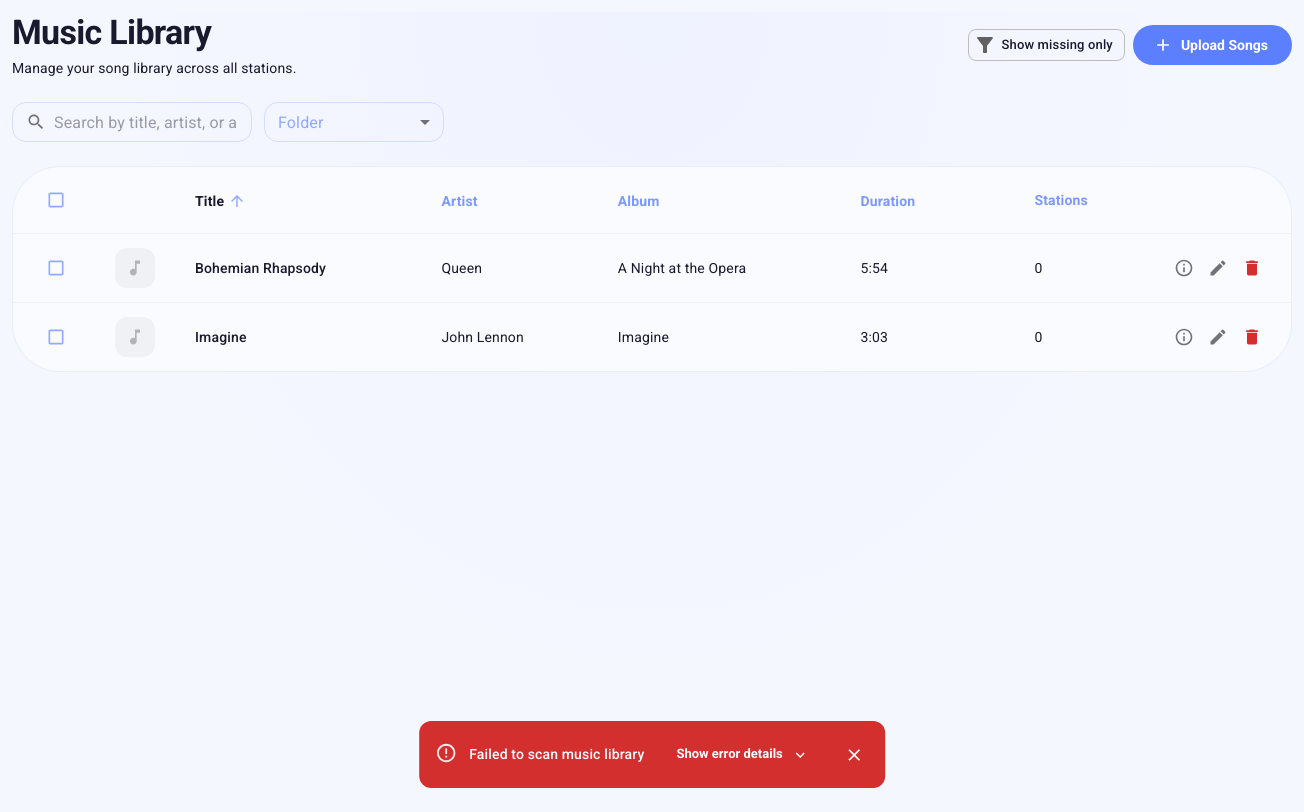
Test: Songs Page › filters songs by search input
Expected: the text "Bohemian Rhapsody" is shown, [195, 258, 326, 278]
Step 1. Type "Bohemian" into the field with placeholder "Search by title, artist, or album..." → point(153, 122), box [54, 102, 252, 142]
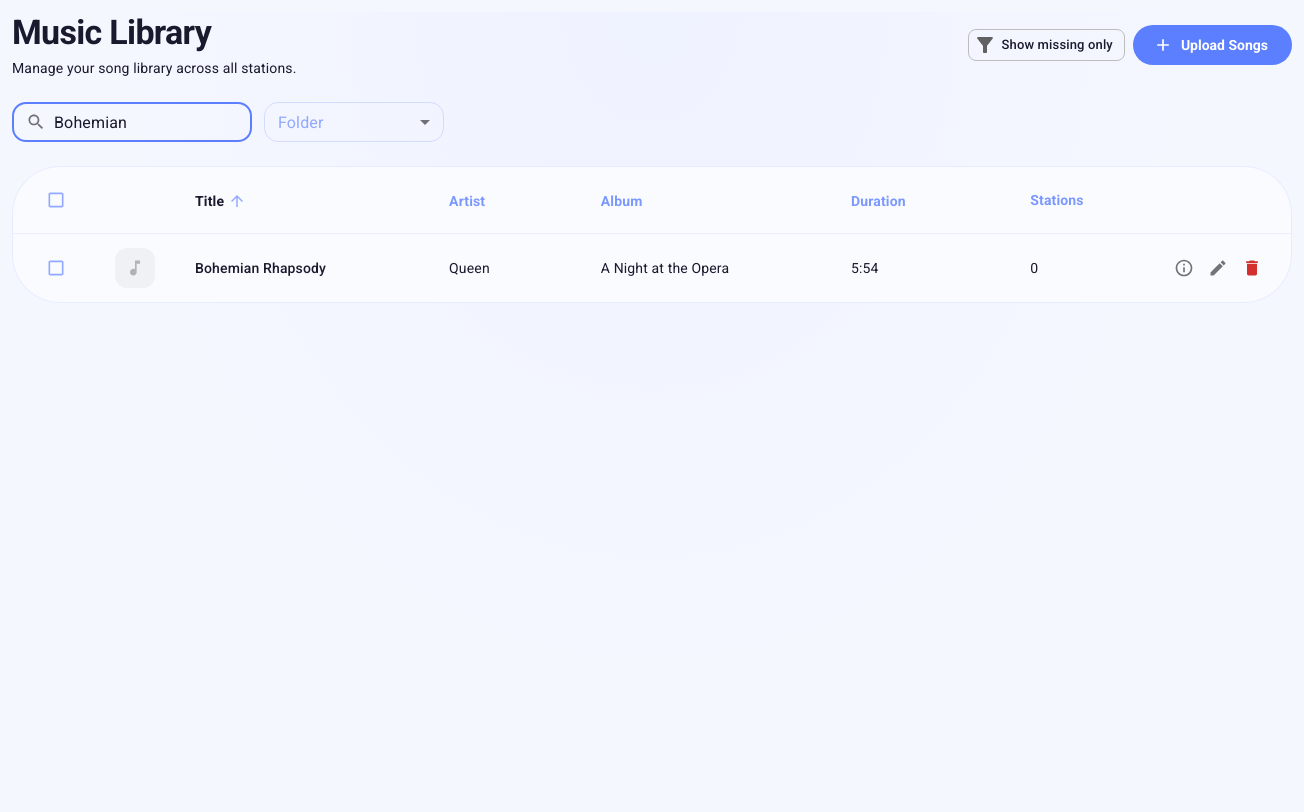
Expected: the text "Bohemian Rhapsody" is shown, [195, 258, 326, 278]
Result: the text "Imagine" is gone
